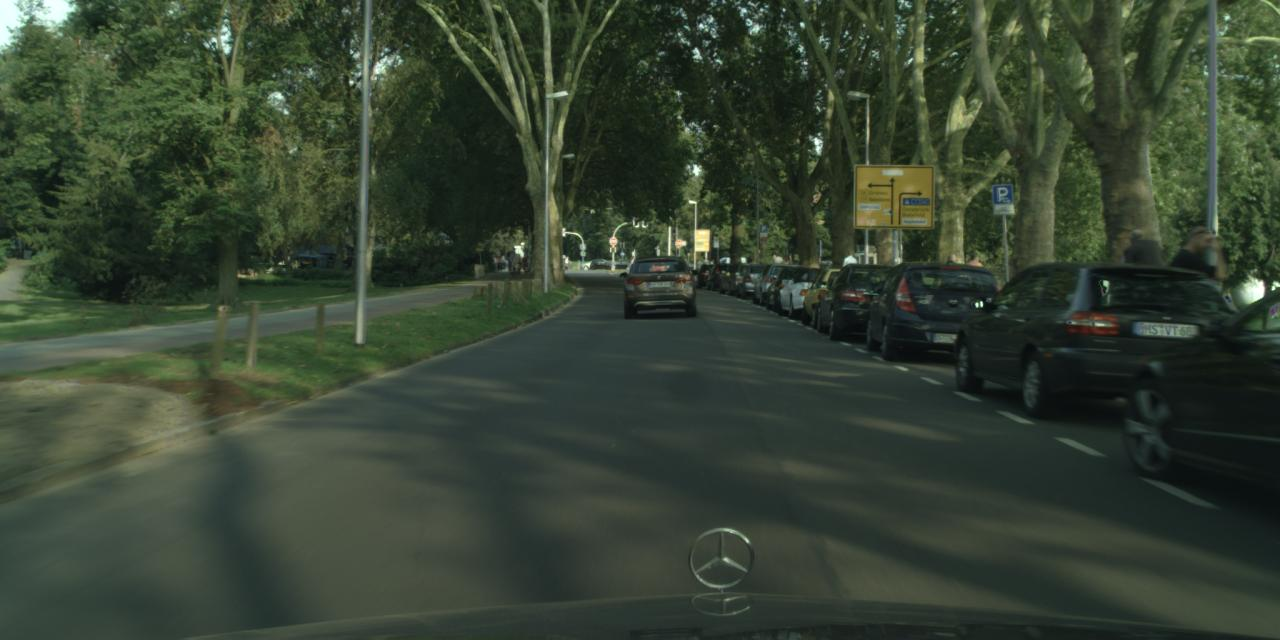ped: (1153, 225, 1222, 392), (1117, 228, 1164, 346), (962, 252, 988, 316), (938, 252, 963, 316), (842, 250, 857, 288), (773, 252, 783, 279), (781, 255, 791, 281), (510, 251, 518, 272), (497, 253, 504, 270), (564, 256, 568, 268)
